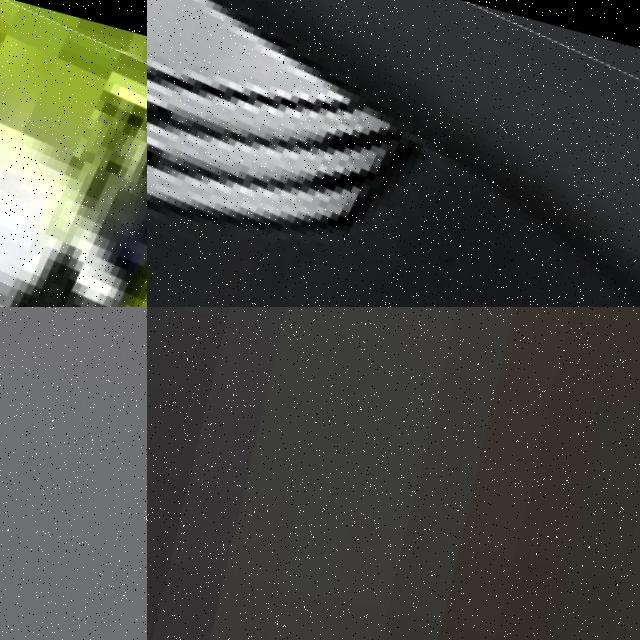0: (0, 0, 147, 307)
drone: (147, 0, 640, 307)
